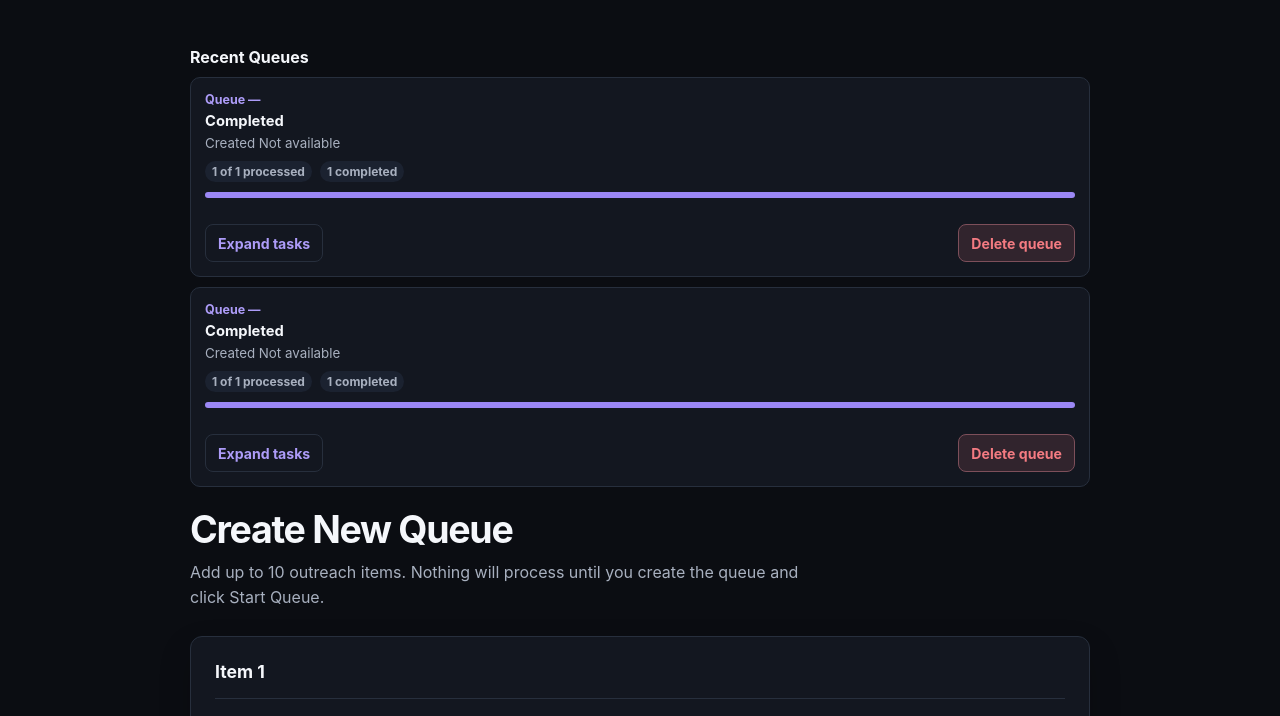
Test: ProcessingQueuePage › expands queue tasks independently and deletes an inactive queue after confirmation
Click the 1st button "Expand tasks" at x=264, y=243, box [205, 224, 323, 262]
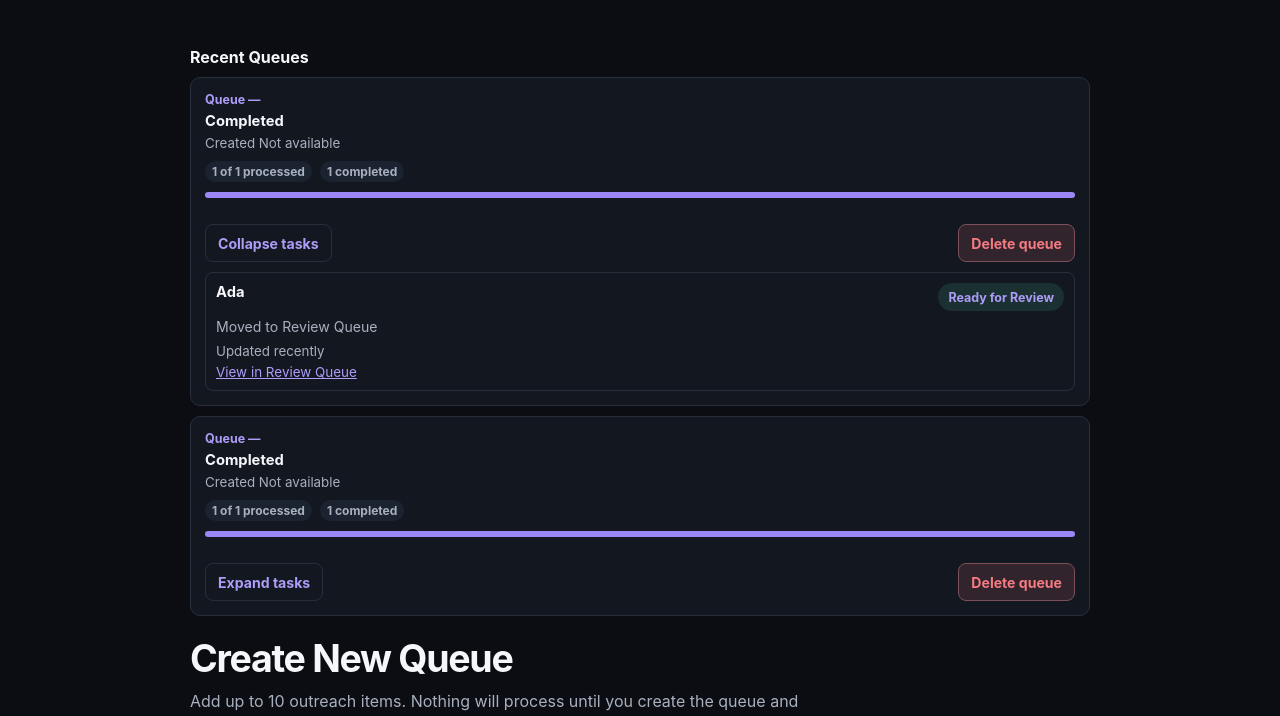
Now the text "Ada" is shown, box [216, 283, 244, 311]
Now the button named "Expand tasks" is expanded, box [205, 224, 332, 262]
Click the 1st button "Delete queue" at x=1017, y=243, box [958, 224, 1075, 262]
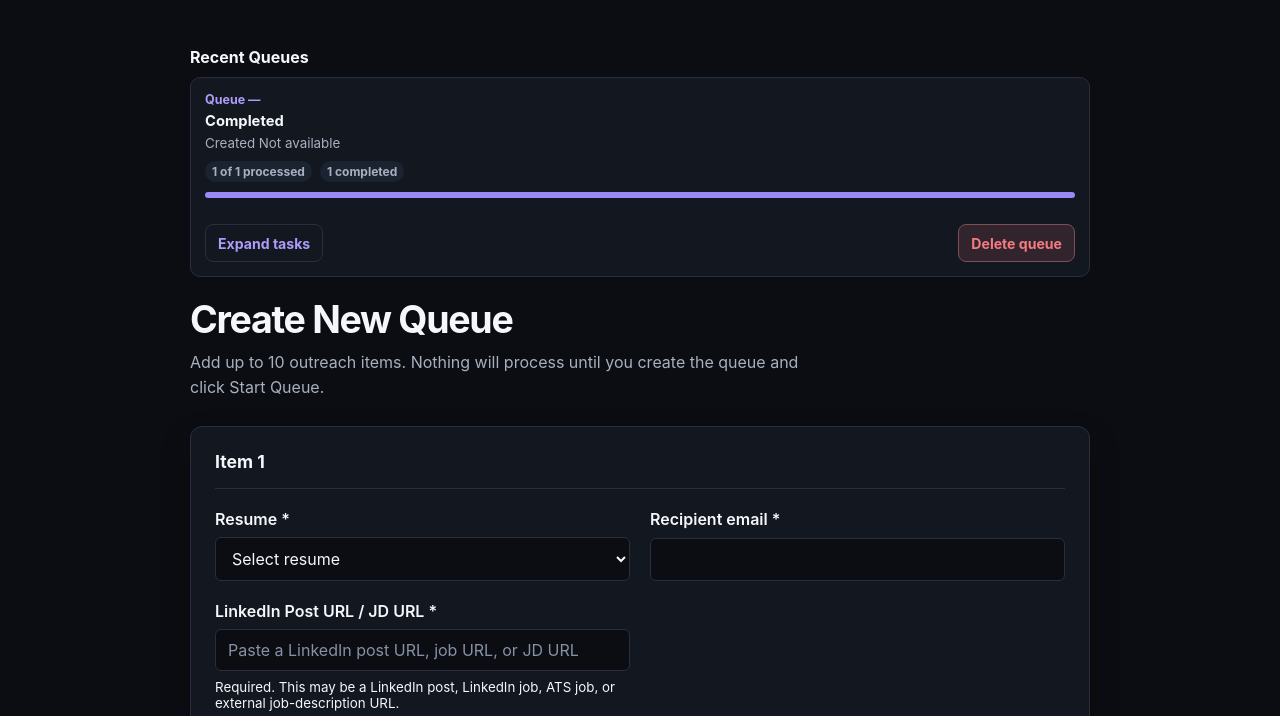
Now the text "Ada" is gone
